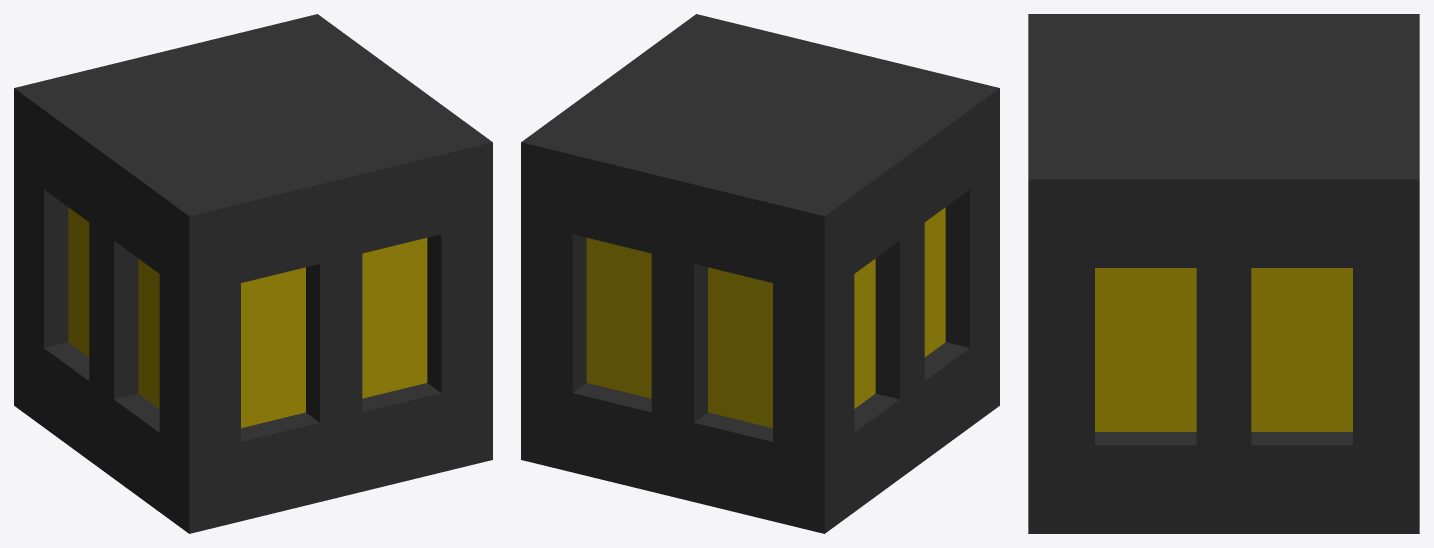
The model's file is b77top.fbx.
3 views of the same model, side by side, from view 1: azimuth 30°, elevation 25°; view 2: azimuth 150°, elevation 25°; view 3: azimuth 270°, elevation 25° (orthographic). The views are drawn at different scales.
Parts seen in each view (by area): view 1: Cube; view 2: Cube; view 3: Cube.
Part boxes in pixels (bbox=[...]): Cube: bbox=[14, 14, 492, 533]; Cube: bbox=[521, 14, 999, 533]; Cube: bbox=[1028, 14, 1419, 533].
Bounding box in the file's own units: 100 × 100 × 100.
